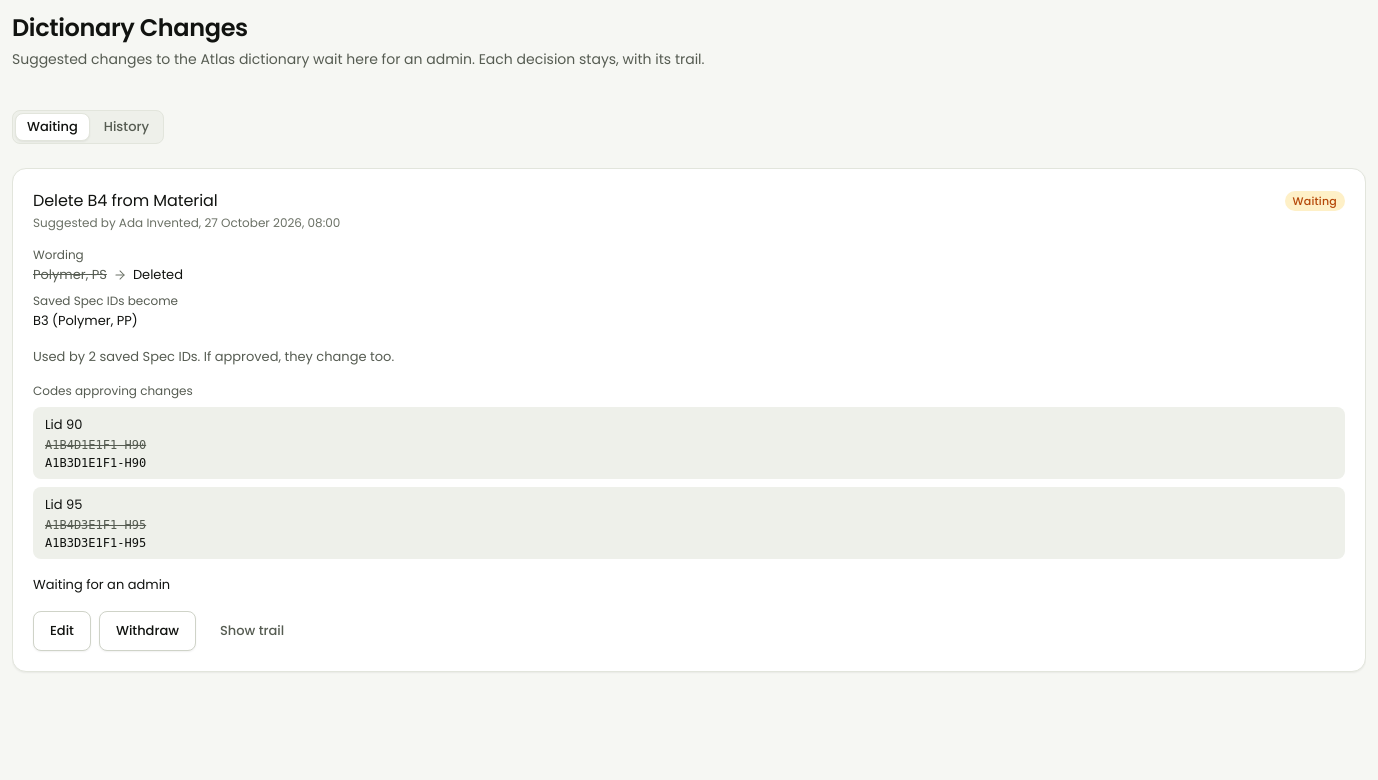
Test: DictionaryChangesPage › withdraws for the suggester
This screenshot has width=1378, height=780.
What coordinates should you click on to do the following:
click the button "Withdraw"
I would click on:
 (147, 631)
Its box is [99,611,196,651].
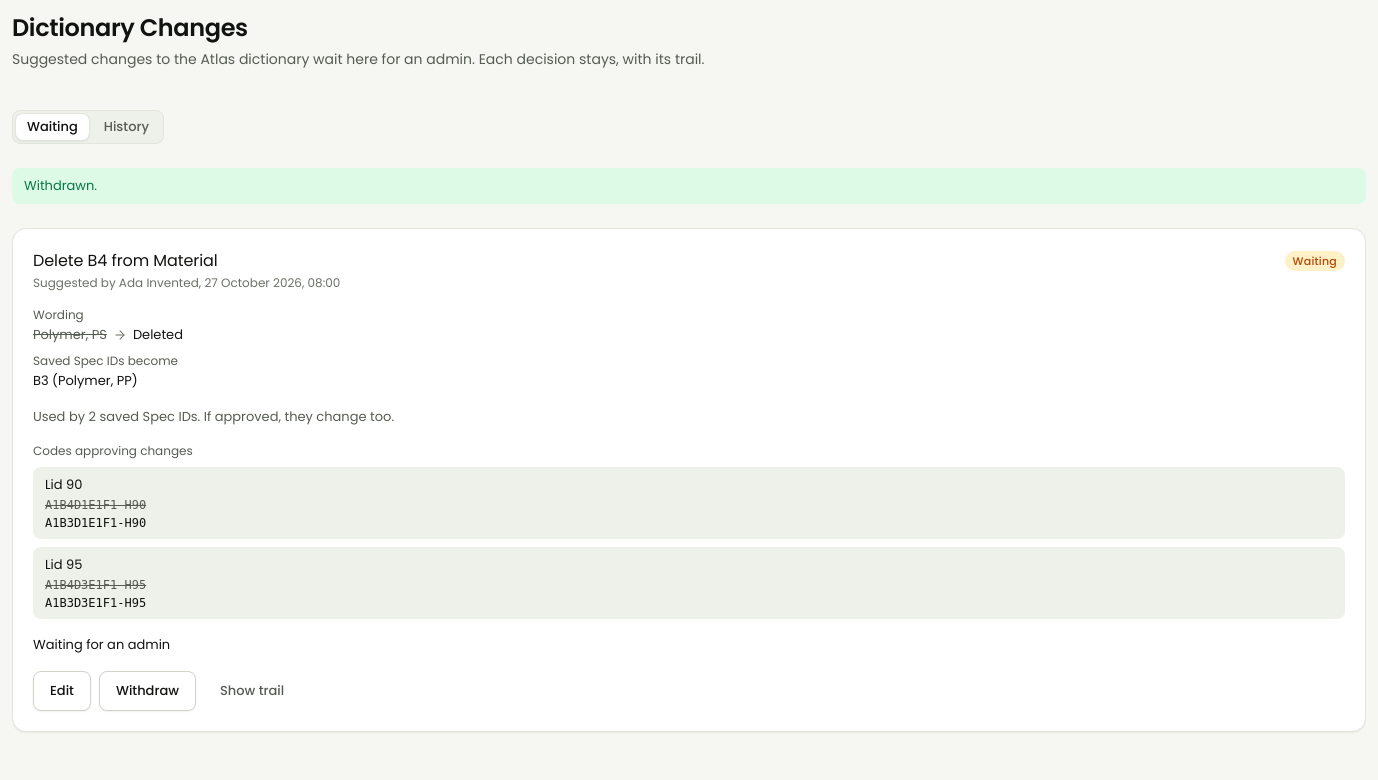
Expected: the text "Withdrawn." is shown, [12,168,1366,204]
